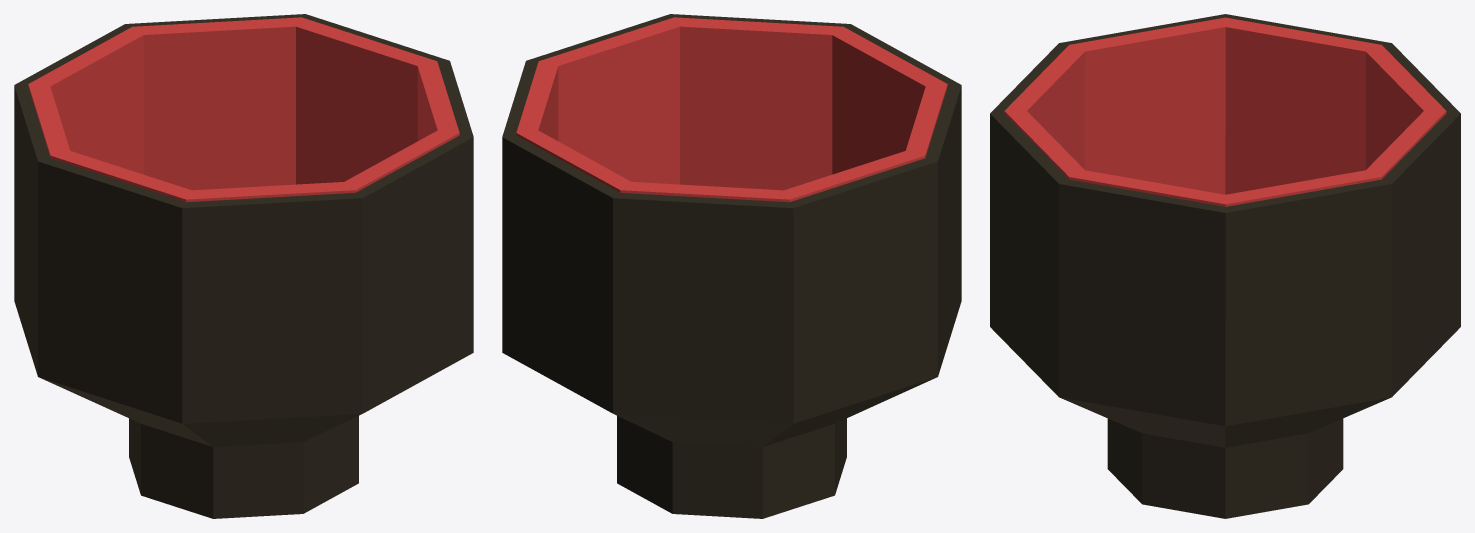
Rendered from WAZIMANURI.fbx.
3 views of the same model, side by side, from view 1: azimuth 30°, elevation 25°; view 2: azimuth 150°, elevation 25°; view 3: azimuth 270°, elevation 25° (orthographic).
Parts seen in each view (by area): view 1: 円柱.026, 円柱.028; view 2: 円柱.026, 円柱.028; view 3: 円柱.026, 円柱.028.
Boxes of the visible parts, x1,y1,x2,y2 form: 円柱.026: (14,14,473,518); 円柱.028: (28,17,459,202); 円柱.026: (502,14,961,518); 円柱.028: (516,17,947,202); 円柱.026: (990,14,1460,518); 円柱.028: (1004,17,1446,206).
Size of the model in its own units: 1200 by 1007 by 1200.
